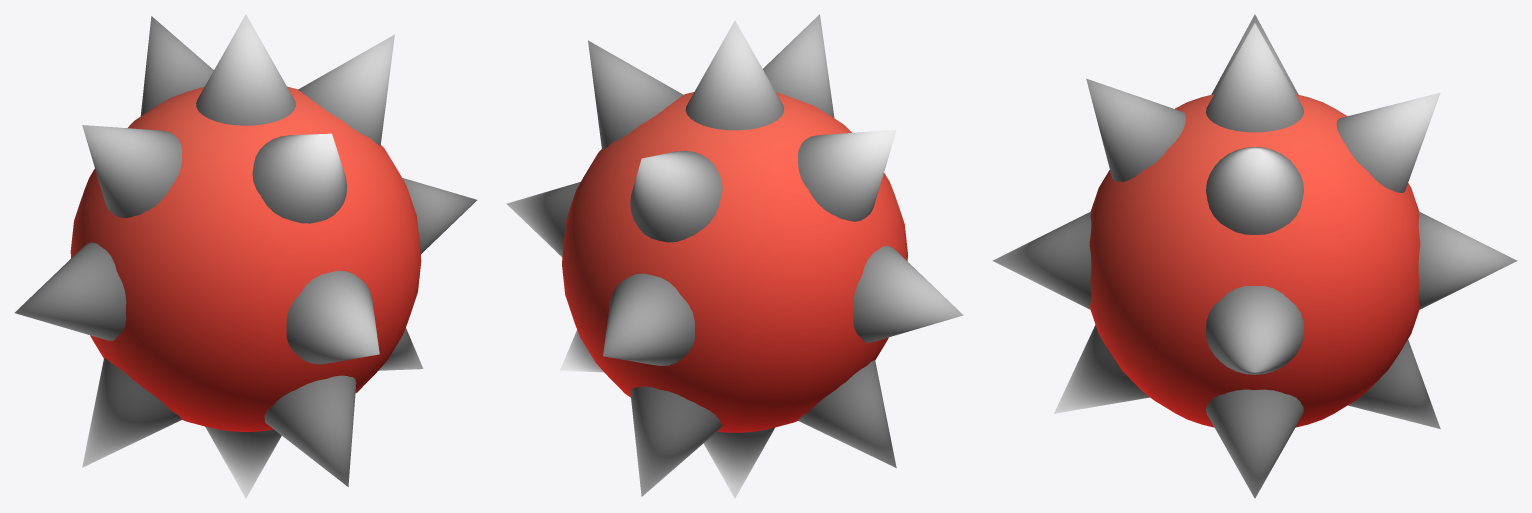
Rendered from Spike_ball.fbx.
The picture shows the model from 3 angles, left to right: view 1: azimuth 30°, elevation 25°; view 2: azimuth 150°, elevation 25°; view 3: azimuth 270°, elevation 25°; orthographic projection.
Visible parts, largest first — view 1: spike_ball; view 2: spike_ball; view 3: spike_ball.
Part boxes in pixels (<box>): spike_ball: <box>14,14,477,498</box>; spike_ball: <box>506,14,963,498</box>; spike_ball: <box>992,14,1517,498</box>.
Size of the model in its own units: 305 by 305 by 305.
